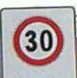limite 30: (11, 13, 64, 67)
